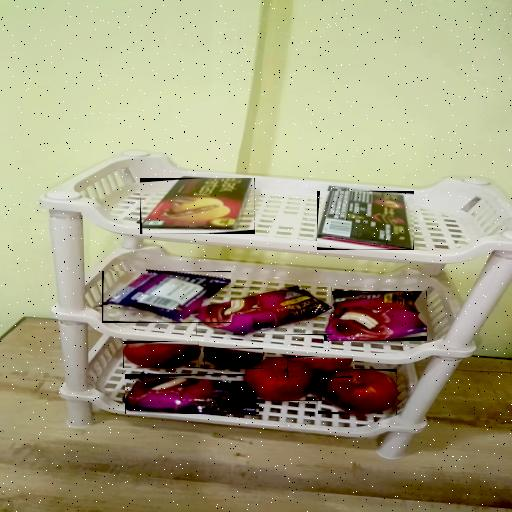Apple: (318, 370, 397, 416), (246, 357, 322, 401), (123, 341, 199, 368), (287, 356, 353, 378), (204, 348, 263, 369)
Choco Fills: (140, 178, 255, 234), (317, 191, 414, 250)
Choco Pie: (102, 271, 231, 323), (196, 287, 332, 335), (125, 374, 259, 414), (324, 291, 427, 341)
